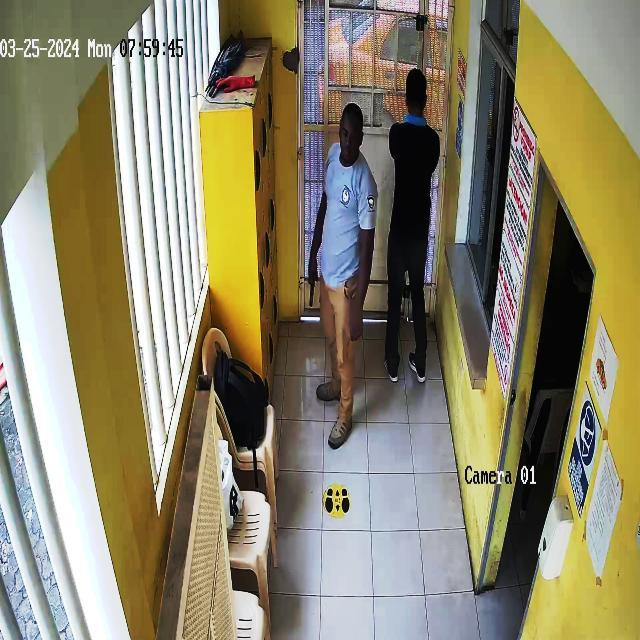Gun: (297, 254, 325, 313)
